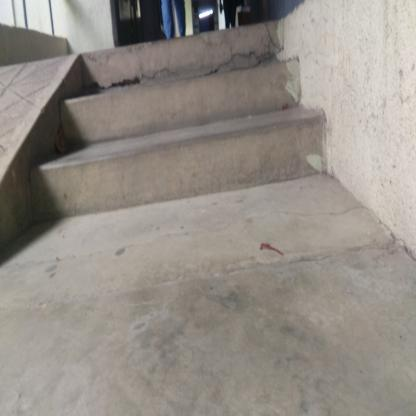stairs: (84, 49, 288, 207)
